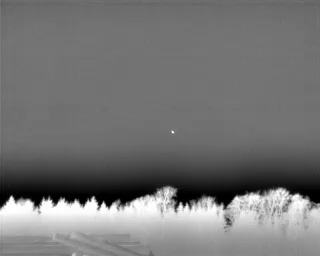BIRD: (170, 128, 176, 136)
